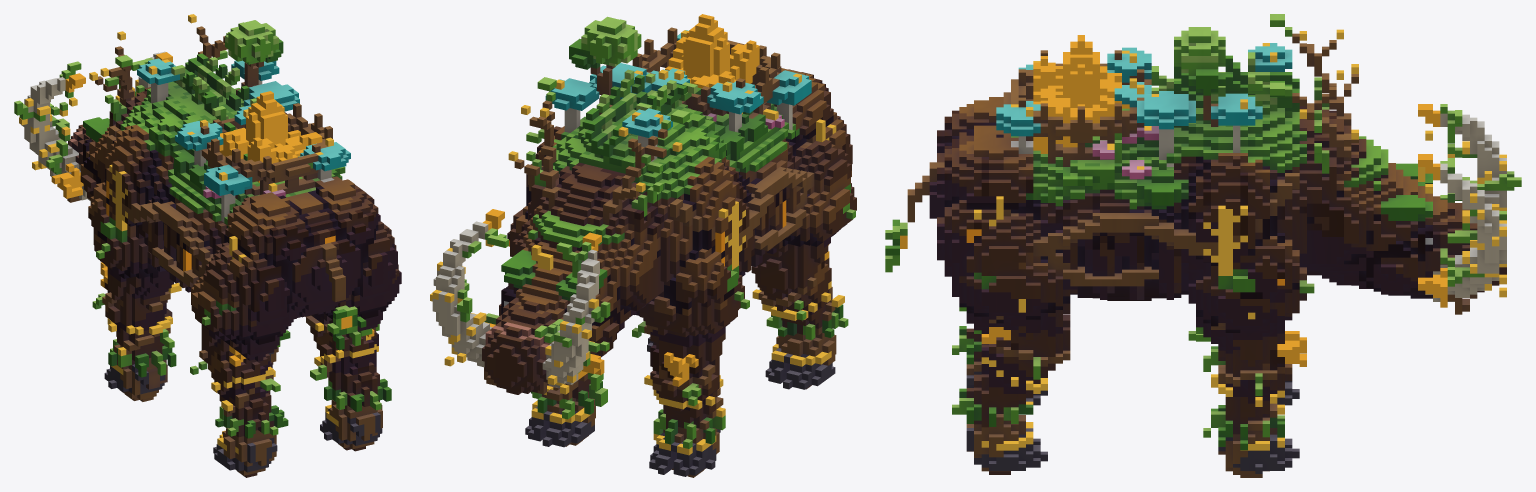
Rendered from Tosk.glb.
The picture shows the model from 3 angles, left to right: view 1: azimuth 30°, elevation 25°; view 2: azimuth 150°, elevation 25°; view 3: azimuth 270°, elevation 25°; orthographic projection. The views are drawn at different scales.
Visible parts, largest first — view 1: Body__Tex, Body__Tex2, Head__Tex, LegBL1__Tex, LegFL1__Tex, Body__Crystal, LegBR3__Tex, LegBL3__Tex, LegBL2__Tex, LegFL3__Tex, LegBR2__Tex, LegFL2__Tex (+9 smaller); view 2: Head__Tex, Body__Tex2, Body__Tex, LegFL1__Tex, LegBL1__Tex, Body__Crystal, LegBL2__Tex, LegBL3__Tex, LegFL3__Tex, LegFR3__Tex, LegFL2__Tex, Head__Glow (+8 smaller); view 3: Body__Tex, Body__Tex2, Head__Tex, LegBR1__Tex, LegFR1__Tex, Body__Crystal, LegBR2__Tex, LegBR3__Tex, LegFR3__Tex, LegFR2__Tex, Body__Glow, Head__Glow (+5 smaller).
Boxes of the visible parts, x1,y1,x2,y2 form: Body__Tex: (147, 91, 397, 328); Body__Tex2: (88, 20, 298, 271); Head__Tex: (14, 26, 228, 202); LegBL1__Tex: (191, 242, 296, 361); LegFL1__Tex: (93, 205, 173, 312); Body__Crystal: (219, 91, 322, 225); LegBR3__Tex: (320, 378, 391, 451); LegBL3__Tex: (213, 402, 288, 477); LegBL2__Tex: (190, 336, 280, 419); LegFL3__Tex: (104, 339, 176, 401); LegBR2__Tex: (308, 324, 379, 391); LegFL2__Tex: (92, 292, 174, 355); Head__Tex: (432, 77, 689, 400); Body__Tex2: (507, 16, 766, 315); Body__Tex: (615, 27, 852, 266); LegFL1__Tex: (632, 254, 749, 378); LegBL1__Tex: (762, 140, 856, 270); Body__Crystal: (665, 14, 759, 113); LegBL2__Tex: (751, 254, 835, 334); LegBL3__Tex: (765, 304, 848, 389); LegFL3__Tex: (649, 407, 725, 477); LegFR3__Tex: (525, 379, 607, 447); LegFL2__Tex: (650, 356, 723, 436); Head__Glow: (430, 105, 682, 394); Body__Tex: (929, 47, 1158, 300); Body__Tex2: (1152, 27, 1306, 302); Head__Tex: (1270, 14, 1521, 314); LegBR1__Tex: (952, 213, 1077, 349); LegFR1__Tex: (1188, 255, 1314, 370); Body__Crystal: (1033, 35, 1129, 153); LegBR2__Tex: (974, 314, 1070, 423); LegBR3__Tex: (952, 388, 1047, 474); LegFR3__Tex: (1203, 405, 1299, 477); LegFR2__Tex: (1218, 353, 1292, 430); Body__Glow: (966, 43, 1284, 285); Head__Glow: (1299, 29, 1506, 297).
Bounding box in the file's own units: 3.7 × 6.4 × 8.6.
